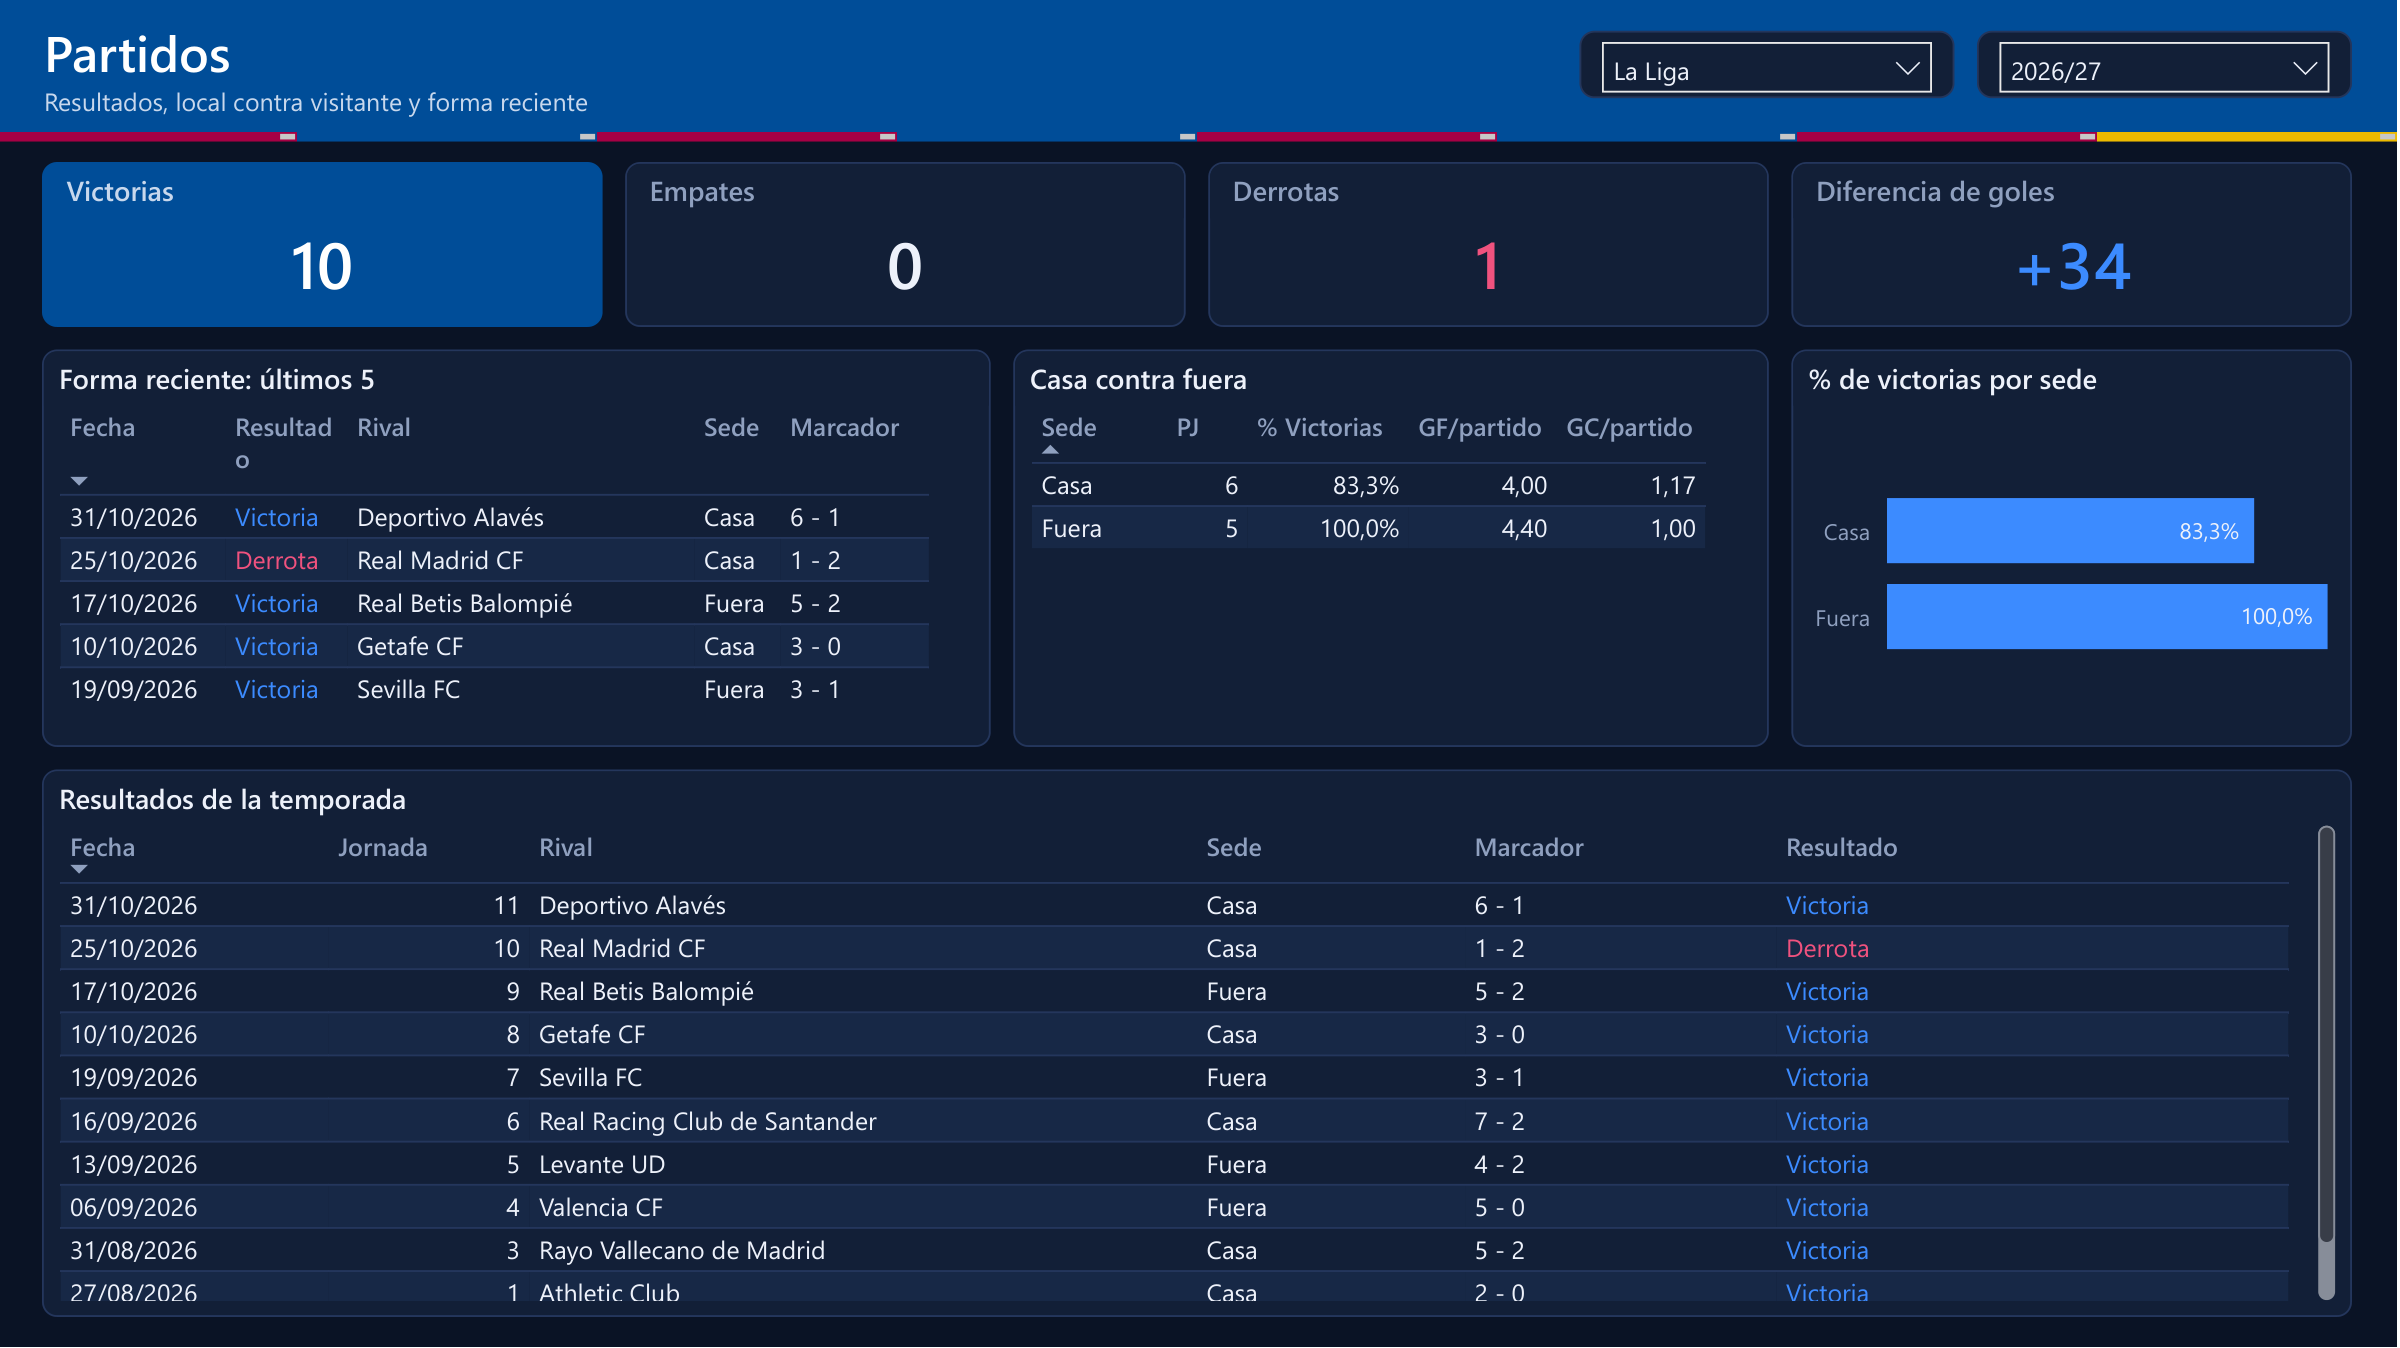

The dashboard page shown, as its layout file describes it:
{"tool":"powerbi","page":{"name":"Partidos","canvas":[1280,720],"ordinal":1},"visuals":[{"type":"textbox","box":[0,0,1280,72],"z":0},{"type":"textbox","box":[0,72,160,5],"z":10},{"type":"textbox","box":[160,72,160,5],"z":20},{"type":"textbox","box":[320,72,160,5],"z":30},{"type":"textbox","box":[480,72,160,5],"z":40},{"type":"textbox","box":[640,72,160,5],"z":50},{"type":"textbox","box":[800,72,160,5],"z":60},{"type":"textbox","box":[960,72,160,5],"z":70},{"type":"textbox","box":[1120,72,160,5],"z":80},{"type":"slicer","fields":{"Values":["warehouse vw_dim_competition.Competición"]},"box":[844,18,200,36],"z":90},{"type":"slicer","fields":{"Values":["warehouse vw_dim_competition.Temporada"]},"box":[1056,18,200,36],"z":100},{"type":"card","title":"Victorias","fields":{"Values":["Medidas.Victorias"]},"box":[24,88,299,88],"z":110},{"type":"card","title":"Empates","fields":{"Values":["Medidas.Empates"]},"box":[335,88,299,88],"z":120},{"type":"card","title":"Derrotas","fields":{"Values":["Medidas.Derrotas"]},"box":[646,88,299,88],"z":130},{"type":"card","title":"Diferencia de goles","fields":{"Values":["Medidas.Diferencia de goles"]},"box":[957,88,299,88],"z":140},{"type":"tableEx","title":"Forma reciente: últimos 5","fields":{"Values":["warehouse vw_barca_form_last5.Fecha","warehouse vw_barca_form_last5.Resultado","warehouse vw_barca_form_last5.Rival","warehouse vw_barca_form_last5.Sede","warehouse vw_barca_form_last5.Marcador"]},"box":[24,188,506,212],"z":150},{"type":"tableEx","title":"Casa contra fuera","fields":{"Values":["warehouse vw_barca_home_away.Sede","warehouse vw_barca_home_away.PJ","warehouse vw_barca_home_away.% Victorias","warehouse vw_barca_home_away.GF/partido","warehouse vw_barca_home_away.GC/partido"]},"box":[542,188,403,212],"z":160},{"type":"clusteredBarChart","title":"% de victorias por sede","fields":{"Category":["warehouse vw_barca_matches.Sede"],"Y":["Medidas.% Victorias"]},"box":[957,188,299,212],"z":170},{"type":"tableEx","title":"Resultados de la temporada","fields":{"Values":["warehouse vw_barca_matches.Fecha","warehouse vw_barca_matches.Jornada","warehouse vw_barca_matches.Rival","warehouse vw_barca_matches.Sede","warehouse vw_barca_matches.Marcador","warehouse vw_barca_matches.Resultado"]},"box":[24,412,1232,292],"z":180}]}

Visuals, with their boxes in screenshot pixels (x1, y1, x2, y2), scaled from the page's 1280x720 canvas onto the 2400x1348 screenshot:
textbox: locate(0, 0, 2399, 135)
textbox: locate(0, 135, 300, 144)
textbox: locate(300, 135, 600, 144)
textbox: locate(600, 135, 900, 144)
textbox: locate(900, 135, 1200, 144)
textbox: locate(1200, 135, 1500, 144)
textbox: locate(1500, 135, 1800, 144)
textbox: locate(1800, 135, 2100, 144)
textbox: locate(2100, 135, 2399, 144)
slicer - warehouse vw_dim_competition.Competición: locate(1582, 34, 1958, 101)
slicer - warehouse vw_dim_competition.Temporada: locate(1980, 34, 2355, 101)
"Victorias" card: locate(45, 165, 606, 330)
"Empates" card: locate(628, 165, 1189, 330)
"Derrotas" card: locate(1211, 165, 1772, 330)
"Diferencia de goles" card: locate(1794, 165, 2355, 330)
"Forma reciente: últimos 5" tableEx: locate(45, 352, 994, 749)
"Casa contra fuera" tableEx: locate(1016, 352, 1772, 749)
"% de victorias por sede" clusteredBarChart: locate(1794, 352, 2355, 749)
"Resultados de la temporada" tableEx: locate(45, 771, 2355, 1318)
